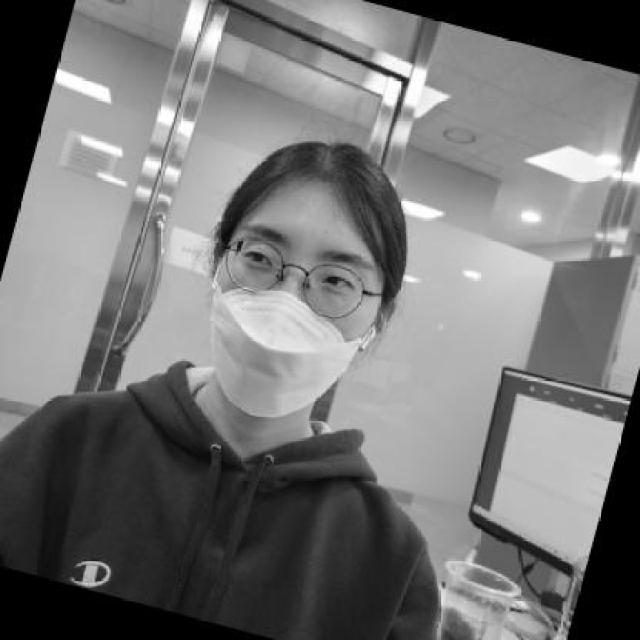earphone: (355, 309, 401, 364)
laptop_computer: (472, 328, 638, 599)
